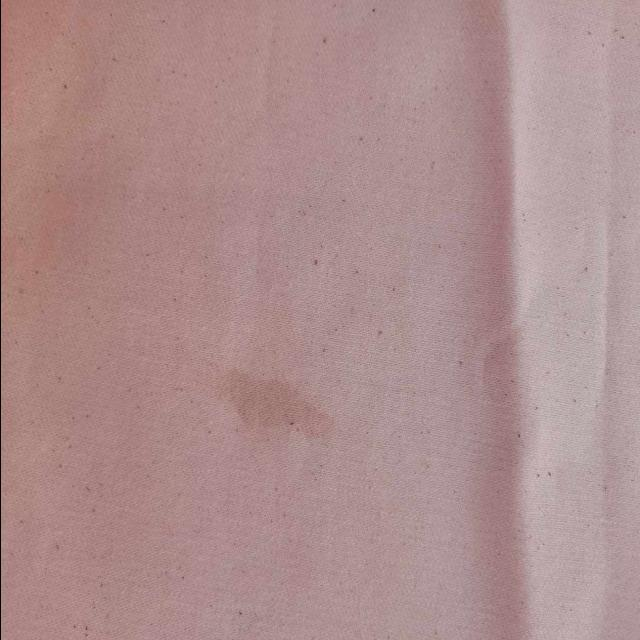taaaches: (199, 350, 331, 454)
